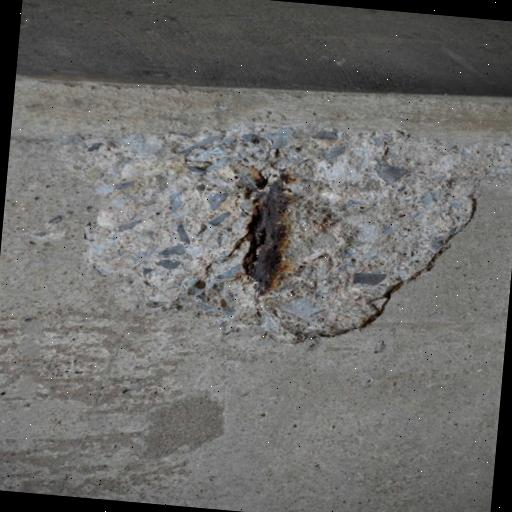spalling: (50, 131, 479, 345)
